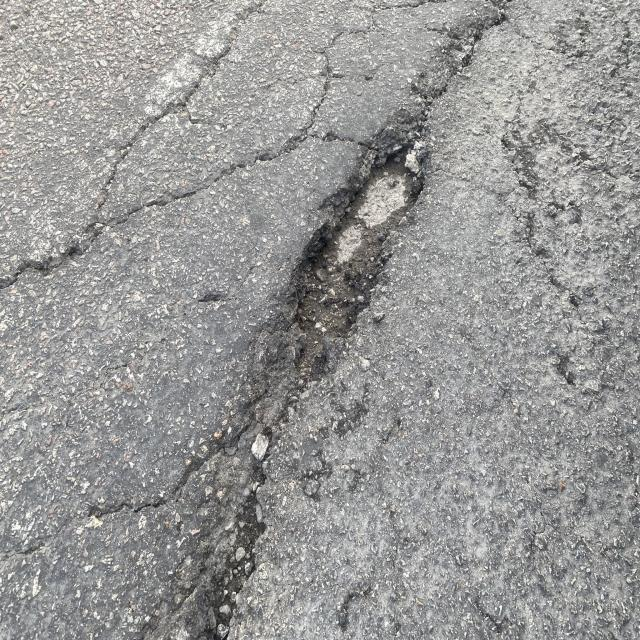pothole: (260, 135, 447, 364)
